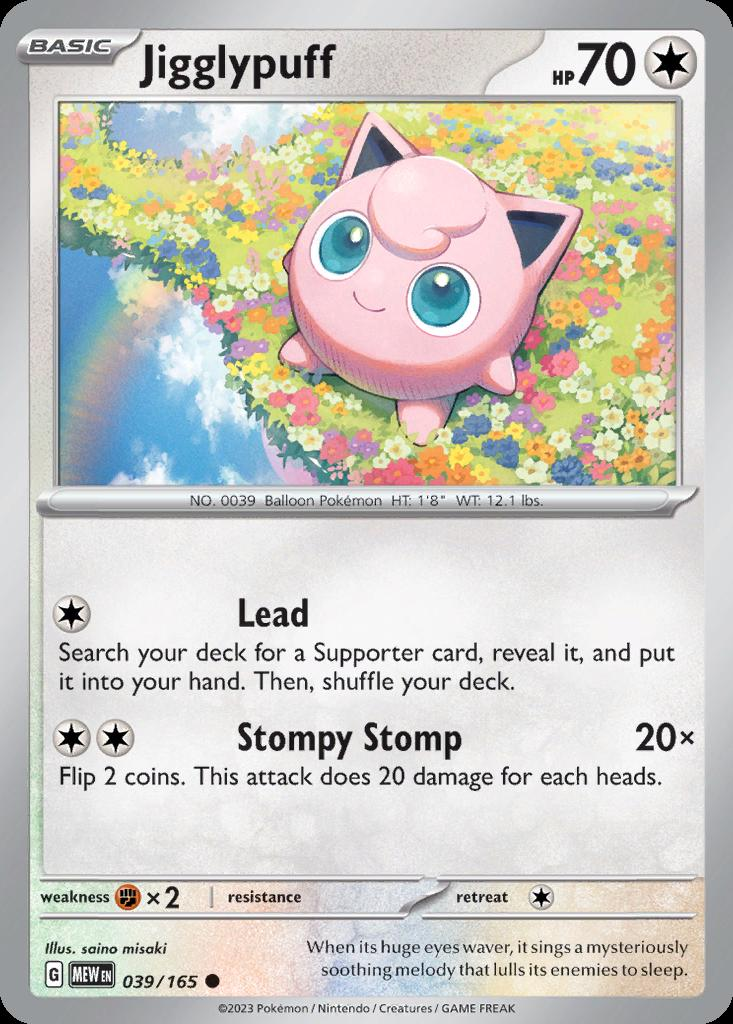card: (4, 0, 733, 1024)
hp: (524, 30, 707, 91)
name: (137, 23, 351, 99)
set num: (121, 963, 204, 991)
set symbol: (44, 957, 116, 990)
